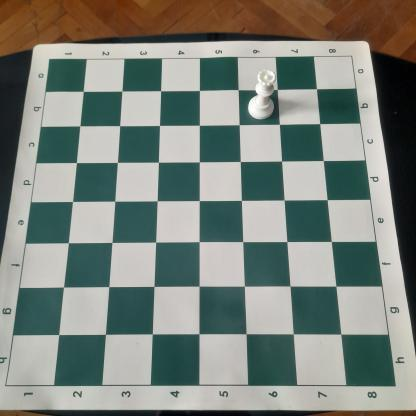white-queen: (247, 68, 277, 121)
